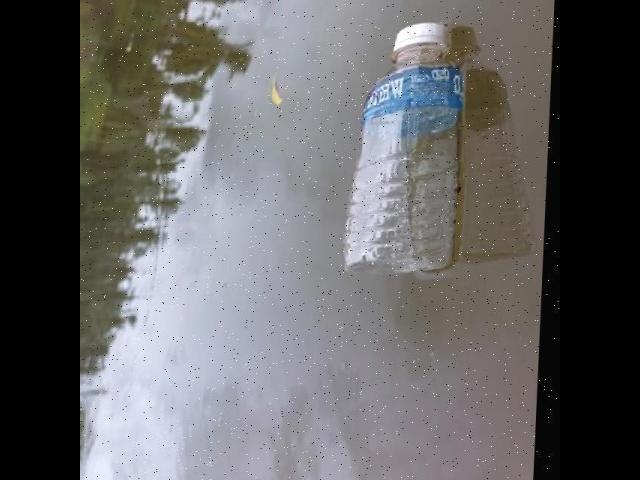Bottle: (335, 14, 470, 280)
